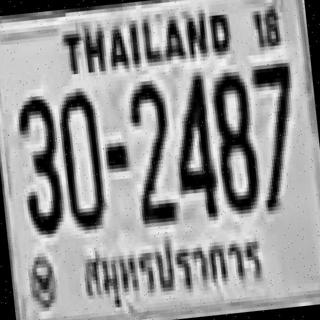N00: (55, 86, 106, 228)
N02: (126, 78, 175, 222)
N03: (14, 91, 64, 232)
N04: (166, 68, 217, 216)
N07: (248, 59, 302, 208)
N08: (208, 67, 260, 212)
P57: (73, 221, 271, 318)
